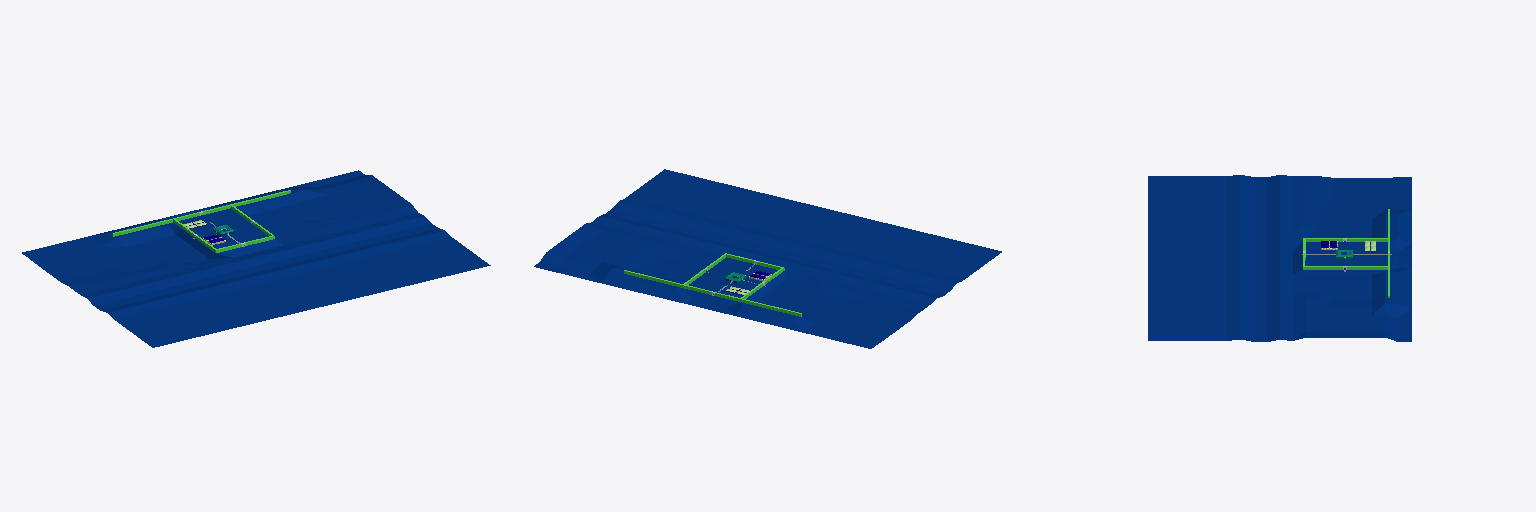
File: carrawburgh.obj
3 views of the same model, side by side, from view 1: azimuth 30°, elevation 25°; view 2: azimuth 150°, elevation 25°; view 3: azimuth 270°, elevation 25° (orthographic).
Parts seen in each view (by area): view 1: Plane024; view 2: Plane024; view 3: Plane024.
Boxes of the visible parts, box(x1,y1,x2,y2) form: Plane024: box(22, 170, 490, 347); Plane024: box(534, 169, 1001, 348); Plane024: box(1148, 175, 1411, 341).
Size of the model in its own units: 26445 by 625 by 17860.